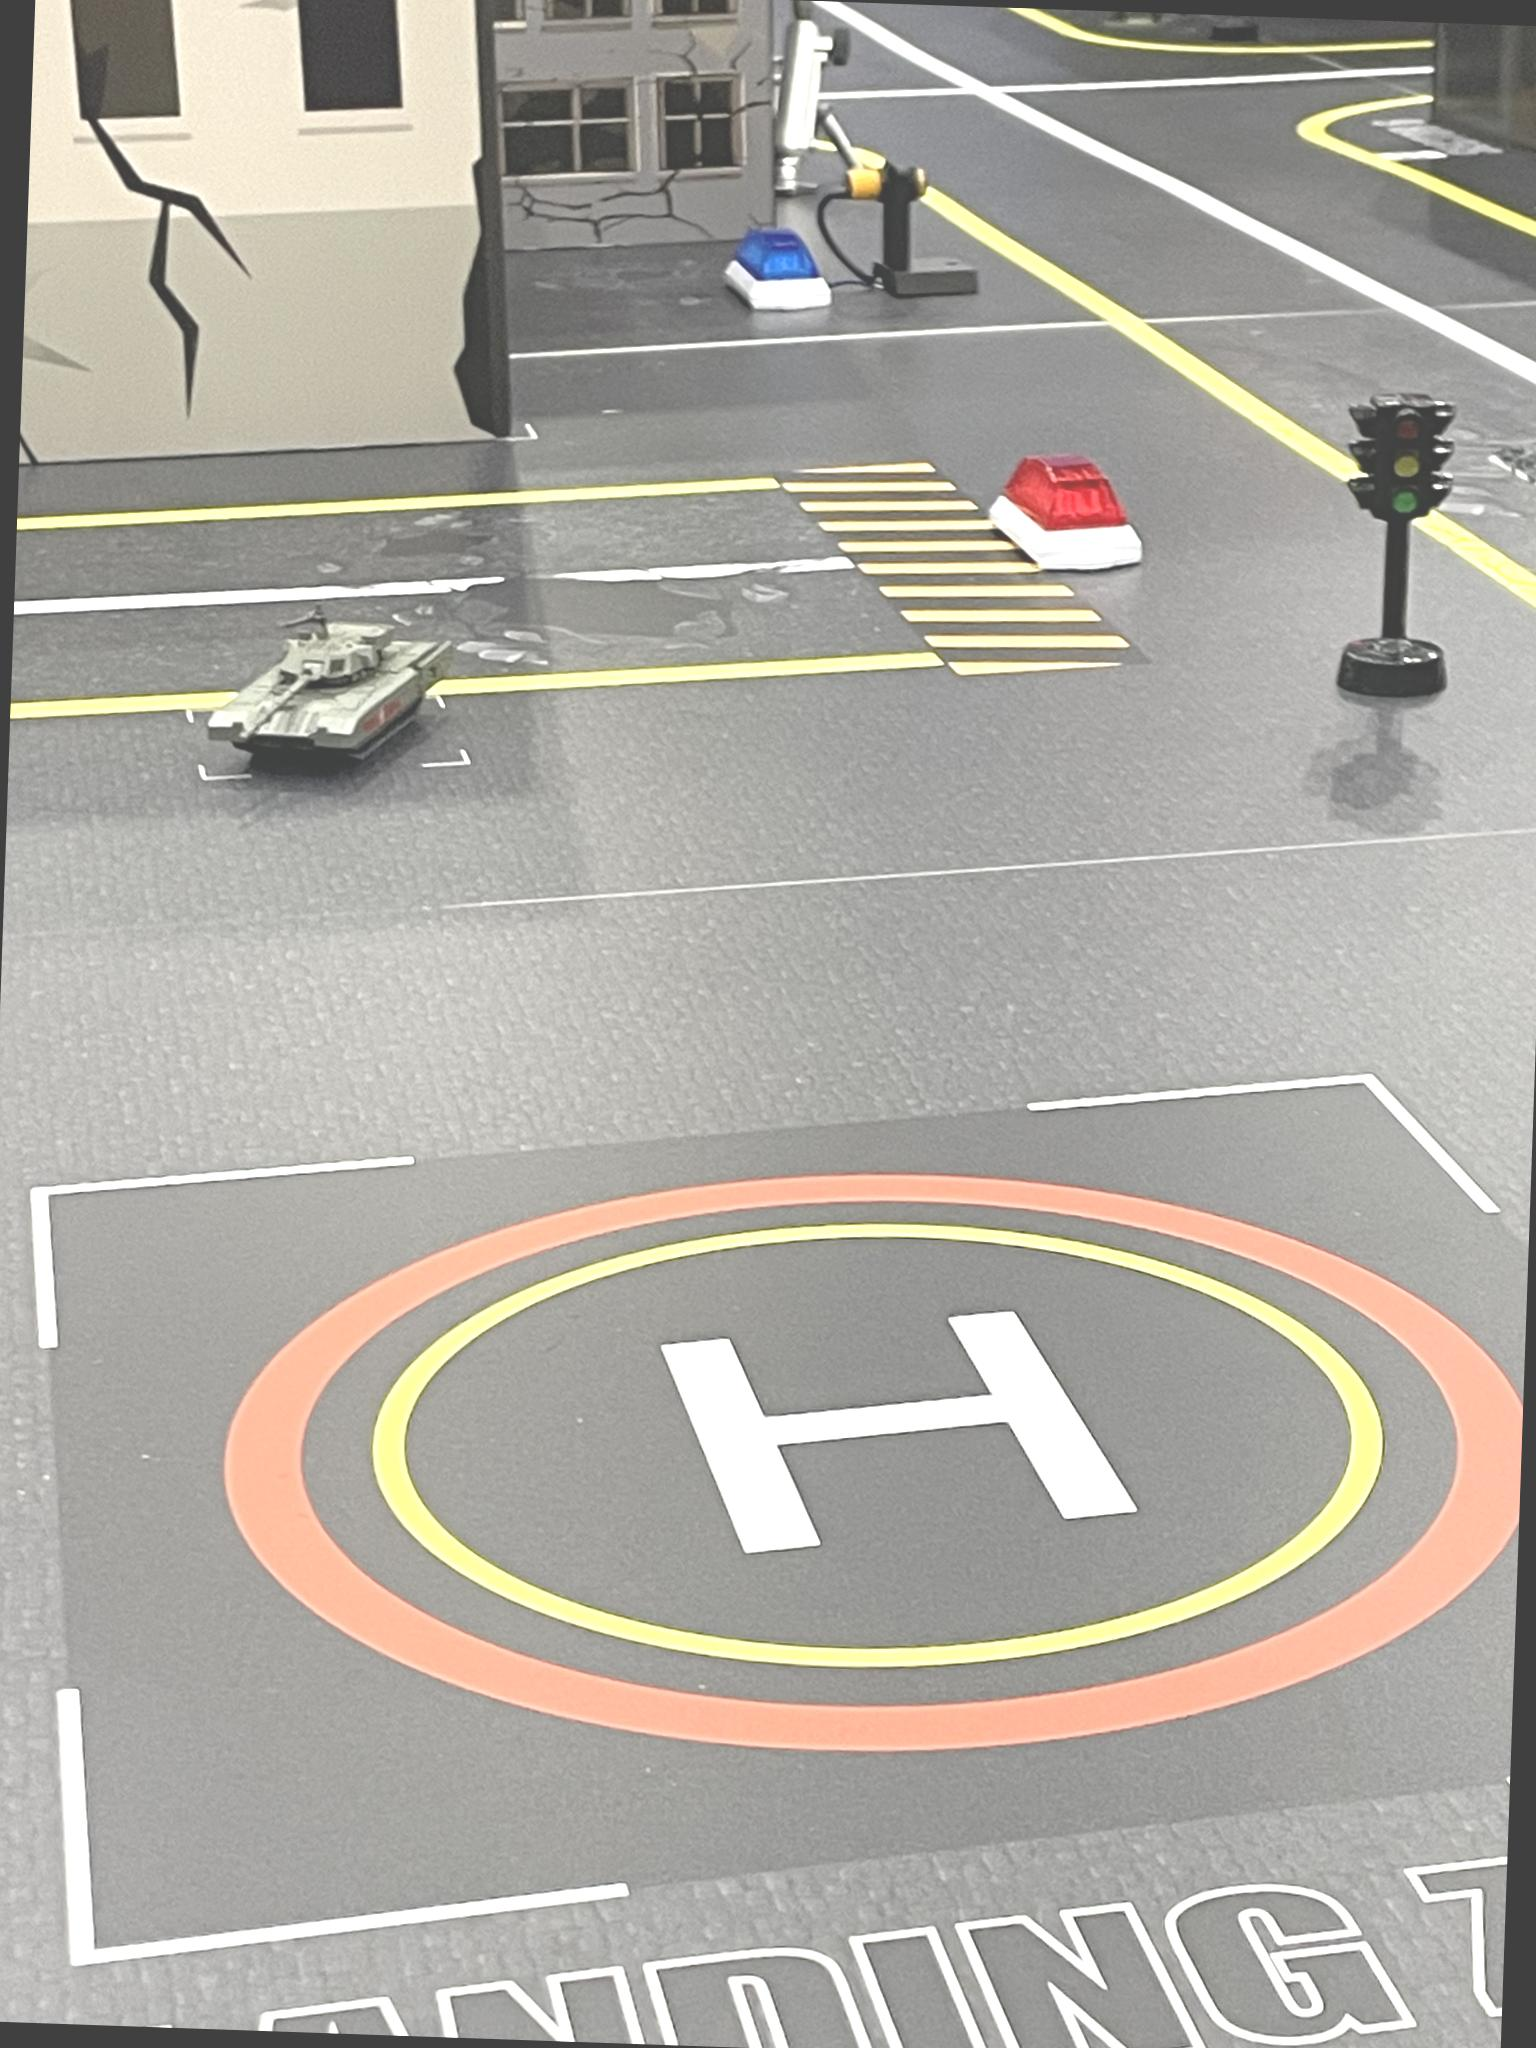Mortar: (778, 5, 857, 194)
Tank: (195, 605, 466, 784)
